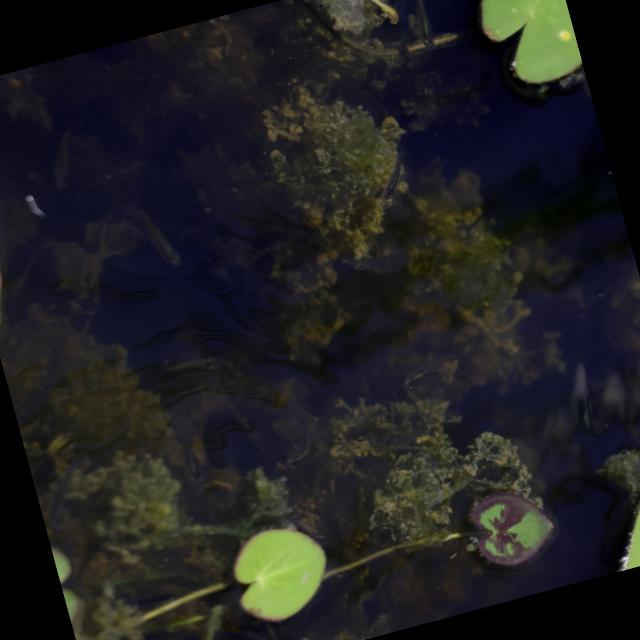Sivrisinek Baligi: (130, 202, 182, 274), (362, 144, 424, 202), (42, 121, 84, 186), (394, 354, 458, 394)
